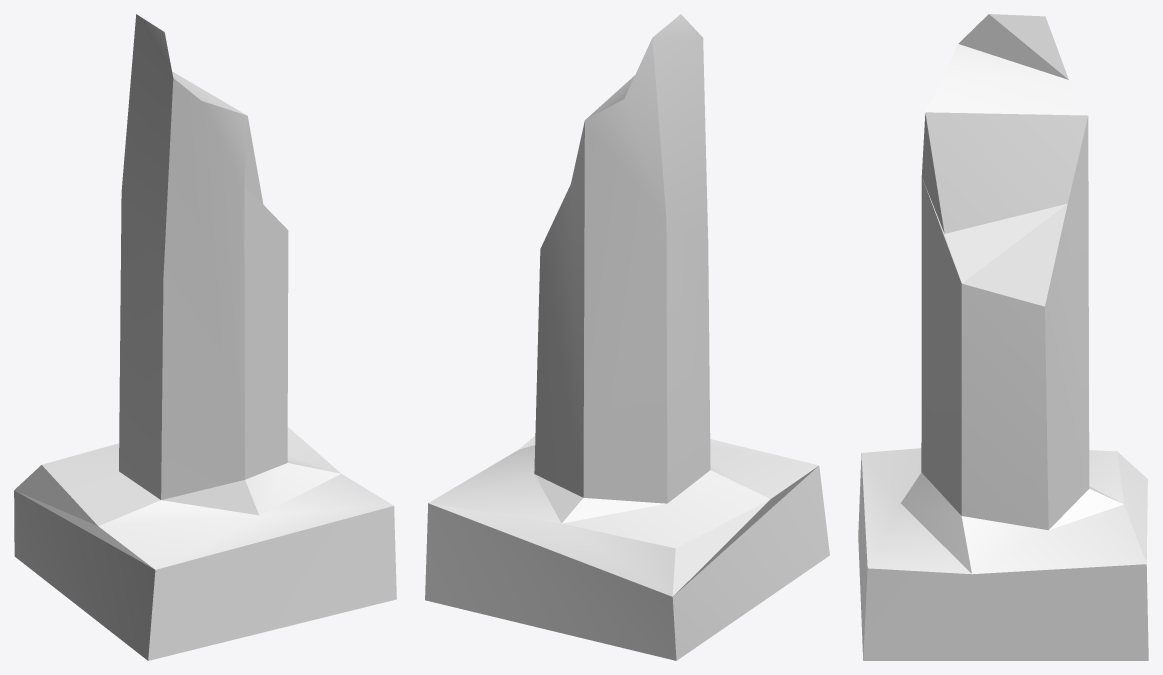
The model's file is ruins.column.broken1.glb.
The picture shows the model from 3 angles, left to right: view 1: azimuth 30°, elevation 25°; view 2: azimuth 150°, elevation 25°; view 3: azimuth 270°, elevation 25°; orthographic projection.
Visible parts, largest first — view 1: column.broken.001; view 2: column.broken.001; view 3: column.broken.001.
Boxes of the visible parts, x1,y1,x2,y2 form: column.broken.001: (14, 14, 396, 660); column.broken.001: (425, 14, 829, 660); column.broken.001: (858, 14, 1148, 660).
Bounding box in the file's own units: 0.7996 × 1.69 × 0.7902.
Materials: 1 (1 with a texture image).
